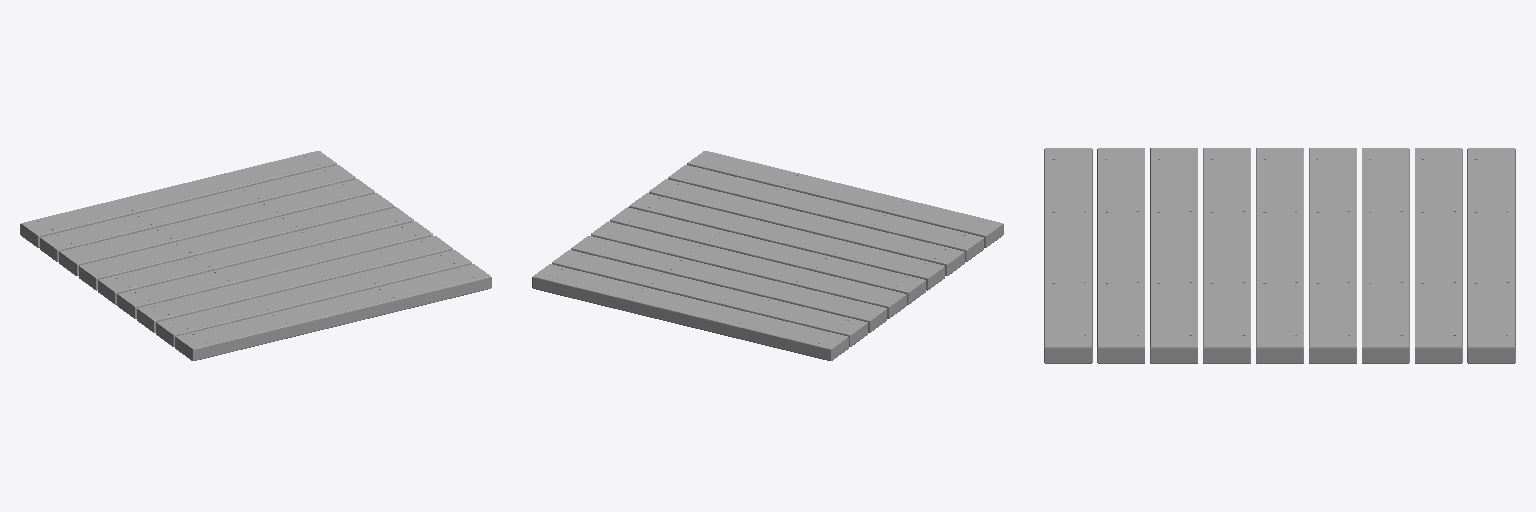
robot.urdf — tray:
<?xml version="1.0" ?>
<robot name="tray">
  <link name="tray_base_link">
    <contact>
      <lateral_friction value="0.5"/>
      <rolling_friction value="0.0"/>
      <contact_cfm value="0.0"/>
      <contact_erp value="1.0"/>
    </contact>
    <inertial>
      <origin rpy="0 0 0" xyz="0 0 0"/>
      <mass value="4"/>
      <inertia ixx="0" ixy="0" ixz="0" iyy="0" iyz="0" izz="0"/>
    </inertial>
    <visual>
      <origin rpy="0 0 0" xyz="0 0 0"/>
      <geometry>
        <mesh filename="woodboard.obj" scale="1 1 1"/>
      </geometry>
      <material name="tray_material">
        <color rgba="0.7 0.7 0.7 1"/>
      </material>
    </visual>
    <collision>
      <origin rpy="0 0 0" xyz="0 0 0"/>
      <geometry>
        <mesh filename="woodboard.obj" scale="1 1 1"/>
      </geometry>
    </collision>
  </link>
</robot>

--- Facts derived from the render (not from the file) ---
Views: 3 orthographic renders of the robot side by side, from view 1: azimuth 30°, elevation 25°; view 2: azimuth 150°, elevation 25°; view 3: azimuth 270°, elevation 25°.
Robot: tray — 1 links, 0 joints (none); root link tray_base_link; default pose: all joints at 0.
Visible links, largest first — view 1: tray_base_link; view 2: tray_base_link; view 3: tray_base_link.
Link boxes in pixels (<box>): tray_base_link: <box>20,151,491,360</box>; tray_base_link: <box>532,151,1003,360</box>; tray_base_link: <box>1044,148,1515,363</box>.
Size in the robot's own frame: 0.5 by 0.5 by 0.02 metres.
1 mesh visuals loaded from 1 distinct referenced files (1 OBJ).